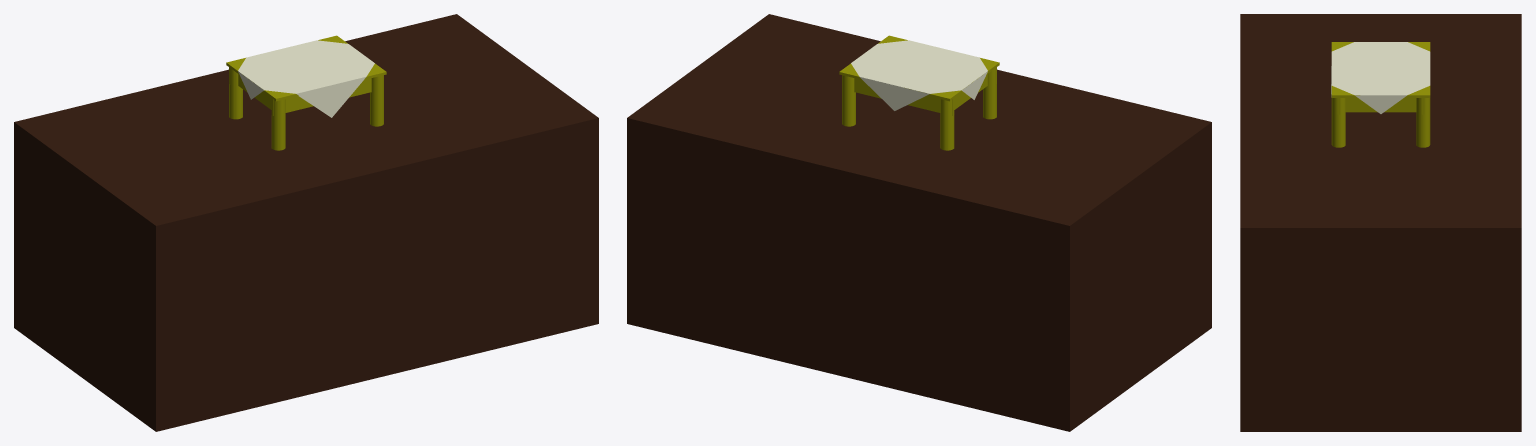
File: アイテム棚.fbx
3 views of the same model, side by side, from view 1: azimuth 30°, elevation 25°; view 2: azimuth 150°, elevation 25°; view 3: azimuth 270°, elevation 25° (orthographic).
Parts seen in each view (by area): view 1: Cube, 立方体.005, 円柱.003, 立方体, 円柱.002, 立方体.001, 円柱.001; view 2: Cube, 立方体.005, 立方体, 円柱.001, 円柱, 立方体.002, 円柱.003; view 3: Cube, 立方体.005, 立方体.003, 円柱, 円柱.002, 立方体.
Part boxes in pixels (x1,y1,x2,y2): Cube: [14, 14, 598, 431]; 立方体.005: [238, 40, 374, 117]; 円柱.003: [271, 99, 285, 150]; 立方体: [226, 35, 386, 101]; 円柱.002: [370, 75, 383, 126]; 立方体.001: [271, 78, 371, 115]; 円柱.001: [229, 68, 242, 119]; Cube: [627, 14, 1211, 431]; 立方体.005: [851, 40, 987, 110]; 立方体: [839, 35, 999, 101]; 円柱.001: [940, 99, 954, 150]; 円柱: [842, 75, 855, 126]; 立方体.002: [854, 78, 954, 115]; 円柱.003: [983, 68, 996, 119]; Cube: [1240, 14, 1521, 431]; 立方体.005: [1331, 42, 1430, 113]; 立方体.003: [1345, 98, 1416, 112]; 円柱: [1416, 98, 1430, 147]; 円柱.002: [1331, 98, 1345, 147]; 立方体: [1331, 42, 1430, 97].
Bounding box in the file's own units: 3.6 × 2.01 × 2.
